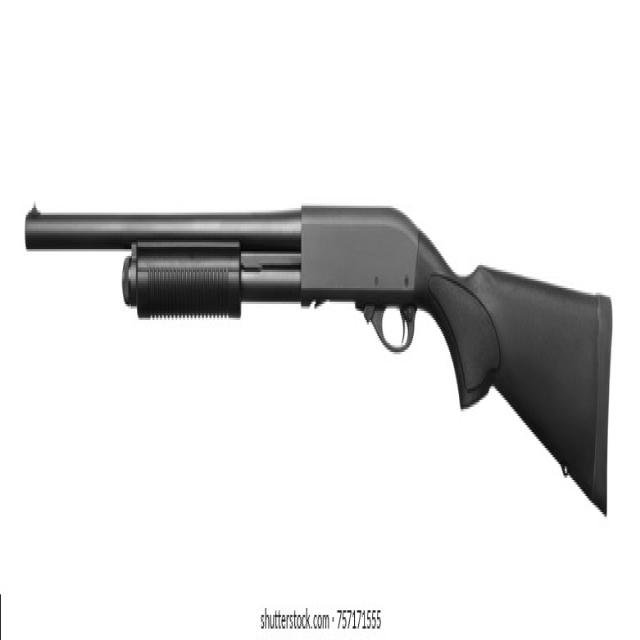Short-Gun: (21, 195, 618, 542)
